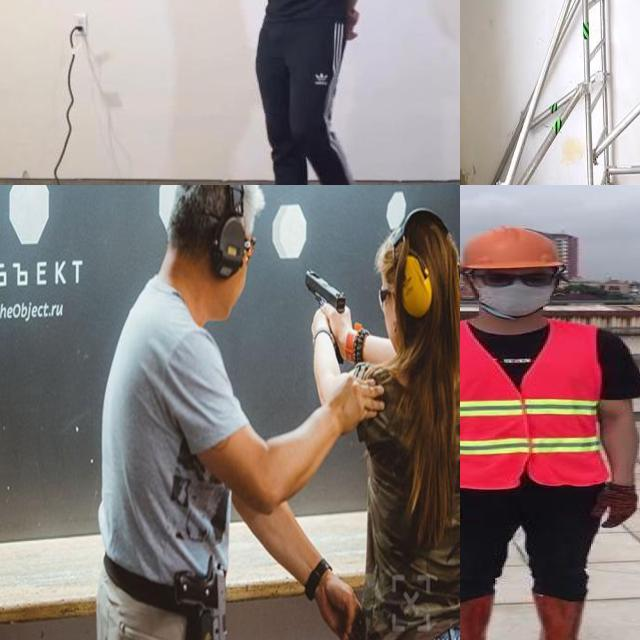Ear-protection: (156, 185, 272, 351), (371, 198, 460, 411)
boots: (530, 592, 610, 640), (460, 597, 495, 640)
face_mask: (466, 266, 560, 316)
glasses: (472, 269, 566, 290)
hand_glove: (591, 485, 640, 526)
head_helmet: (460, 226, 568, 272)
person: (460, 225, 640, 640), (236, 0, 373, 185)
vest: (460, 319, 607, 487)
